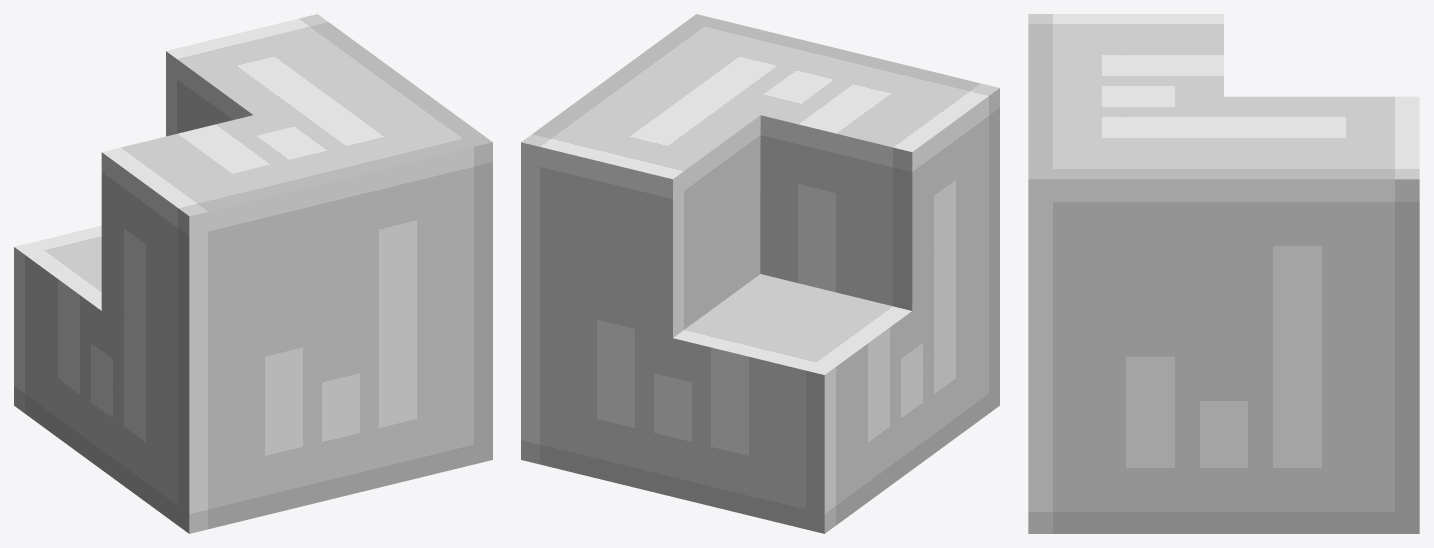
The model's file is block_inner_stairs.gltf.
3 renders of one model, left to right at view 1: azimuth 30°, elevation 25°; view 2: azimuth 150°, elevation 25°; view 3: azimuth 270°, elevation 25°, orthographic. The views are drawn at different scales.
Parts seen in each view (by area): view 1: cube (×3); view 2: cube (×3); view 3: cube (×3).
Boxes of the visible parts, left/top/right/bottom form: cube (×3): left=14, top=14, right=492, bottom=533; cube (×3): left=521, top=14, right=999, bottom=533; cube (×3): left=1028, top=14, right=1419, bottom=533.
Bounding box in the file's own units: 1 × 1 × 1.
3 materials, 3 textured.
